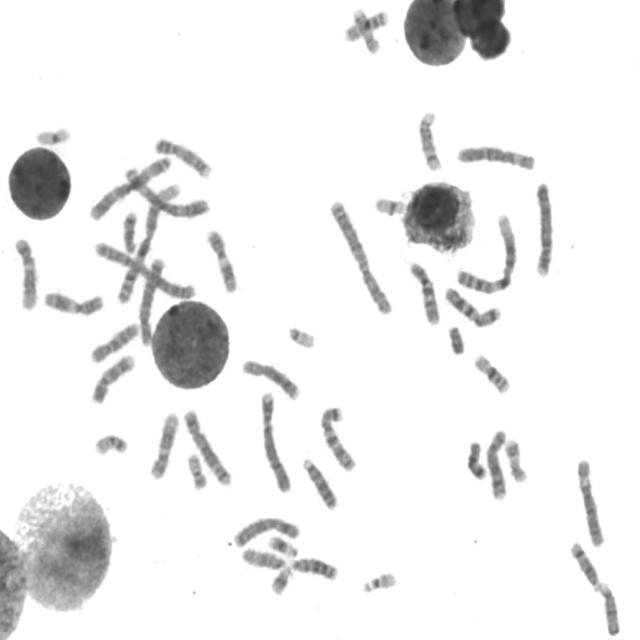A1: (111, 175, 183, 306), (453, 208, 519, 296)
A2: (326, 196, 395, 316), (91, 237, 198, 300)
A3: (86, 150, 174, 222), (122, 163, 211, 219)
B4: (257, 387, 293, 495), (531, 177, 556, 279)
B5: (180, 404, 234, 487), (135, 251, 167, 347)
C10: (87, 318, 142, 364), (406, 258, 442, 326)
C11: (203, 226, 239, 294), (41, 287, 106, 317)
C12: (147, 408, 180, 481), (10, 233, 40, 312)
C6: (573, 454, 607, 548), (454, 141, 538, 173)
C7: (316, 402, 359, 473), (441, 282, 503, 328)
C8: (239, 355, 302, 402), (483, 425, 510, 501)
C9: (151, 134, 214, 180), (88, 350, 137, 406)
D13: (299, 454, 340, 512), (287, 552, 339, 583)
D14: (567, 538, 602, 592), (415, 108, 444, 172)
D15: (594, 578, 622, 637), (238, 544, 289, 572)
E16: (470, 349, 513, 396), (343, 7, 390, 44)
E17: (349, 4, 382, 54), (502, 434, 530, 485)
E18: (464, 437, 489, 481), (119, 207, 140, 256)
F19: (32, 122, 72, 146), (372, 193, 407, 218)
F20: (183, 449, 210, 492), (91, 430, 130, 458)
G21: (264, 530, 300, 558), (266, 561, 294, 597)
G22: (358, 567, 398, 594), (284, 322, 318, 351)
X: (230, 513, 301, 549)
Y: (445, 322, 467, 356)
